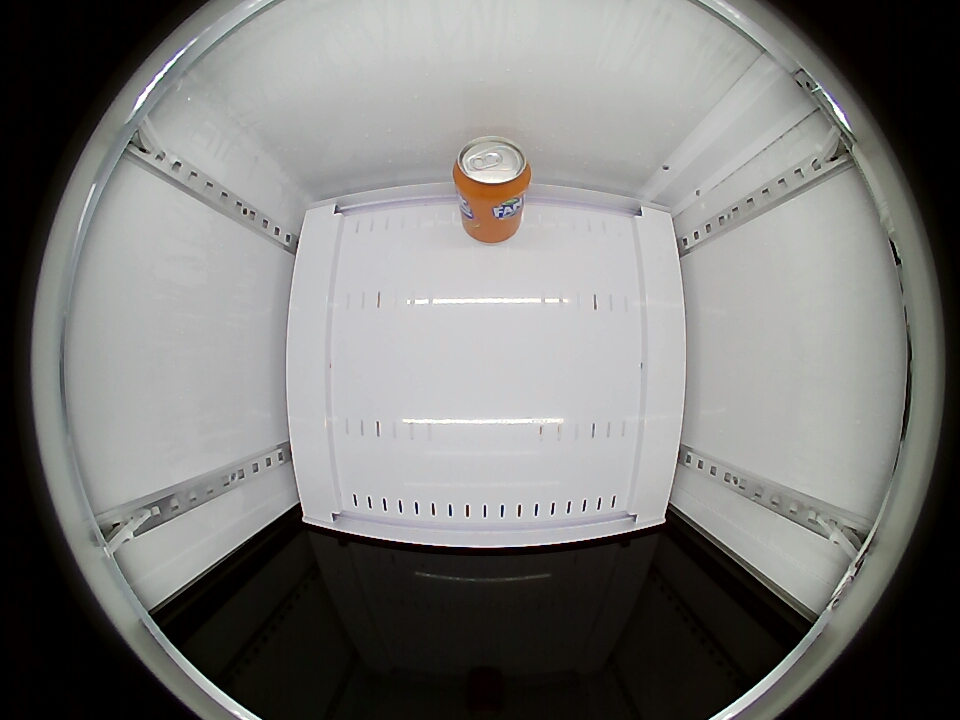fenda: (453, 136, 532, 202)
